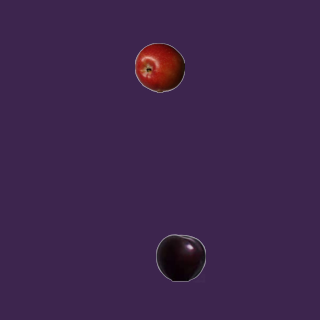Apple Braeburn: (134, 42, 184, 92)
Cherry Wax Black: (155, 232, 205, 282)
